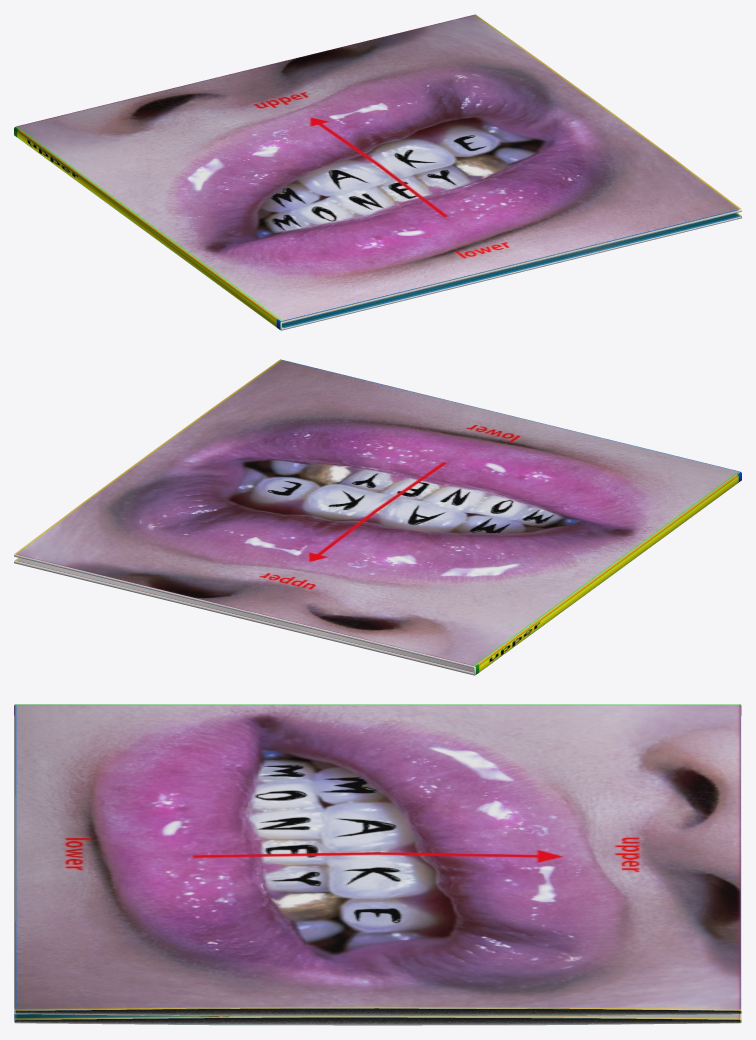
Rendered from sleeve_gatefold_12.dae.
3 renders of one model, top to bottom at view 1: azimuth 30°, elevation 25°; view 2: azimuth 150°, elevation 25°; view 3: azimuth 270°, elevation 25°, orthographic. The views are drawn at different scales.
Visible parts, largest first — view 1: Front_unify_焼成後のtex確認用, Back_unify_焼成後のtex確認用, gatefold_spine_焼成後のtex確認用; view 2: Front_unify_焼成後のtex確認用, Back_unify_焼成後のtex確認用, gatefold_spine_焼成後のtex確認用; view 3: Front_unify_焼成後のtex確認用, Back_unify_焼成後のtex確認用.
Part boxes in pixels (x1,y1,x2,y2): Front_unify_焼成後のtex確認用: [16, 14, 741, 323]; Back_unify_焼成後のtex確認用: [282, 213, 741, 330]; gatefold_spine_焼成後のtex確認用: [14, 126, 281, 330]; Front_unify_焼成後のtex確認用: [14, 359, 739, 668]; Back_unify_焼成後のtex確認用: [14, 558, 473, 675]; gatefold_spine_焼成後のtex確認用: [474, 471, 741, 675]; Front_unify_焼成後のtex確認用: [14, 704, 741, 1016]; Back_unify_焼成後のtex確認用: [14, 1014, 741, 1025].
Bounding box in the file's own units: 31.22 × 0.9986 × 31.26.
3 materials, 3 textured.
